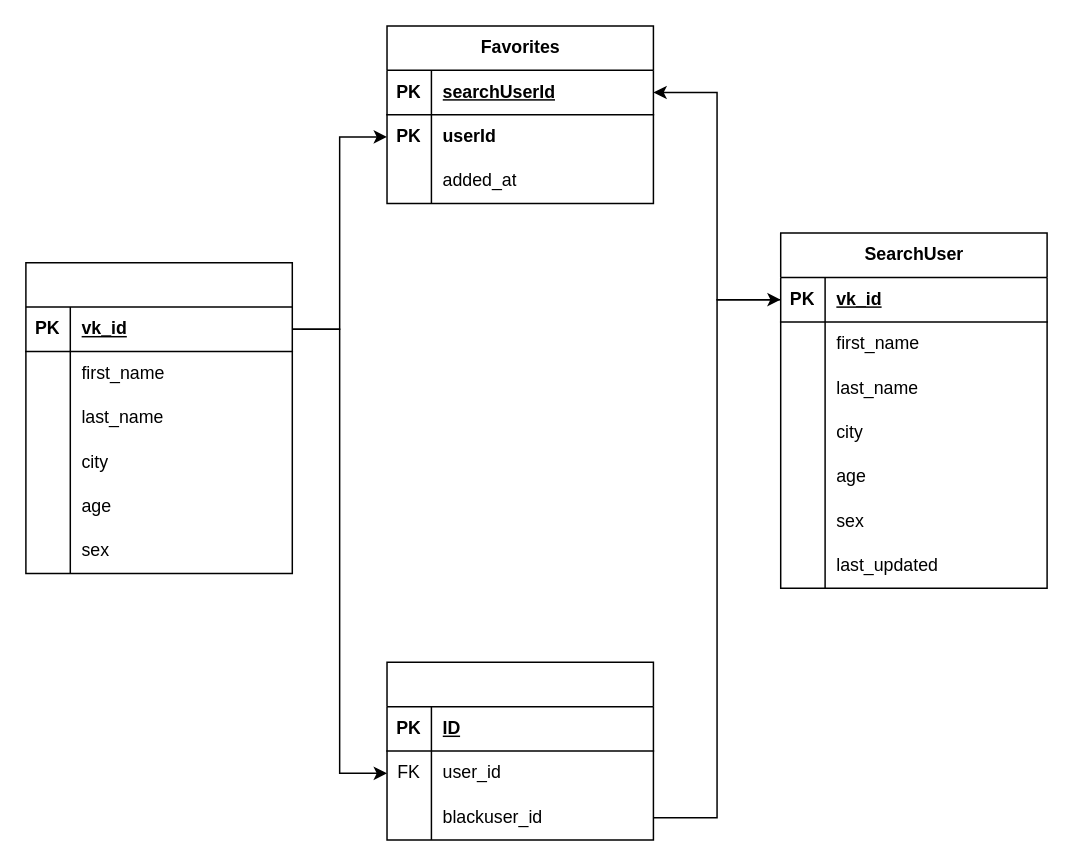
This 1073x866 diagram has some shape labels left out. The shapes that lost their labels are listed below. From the top down, each one's box as (x1, y1, x2, y2) in pixels, then its label:
(24, 261, 292, 574): Users
(386, 661, 653, 840): BlackList
